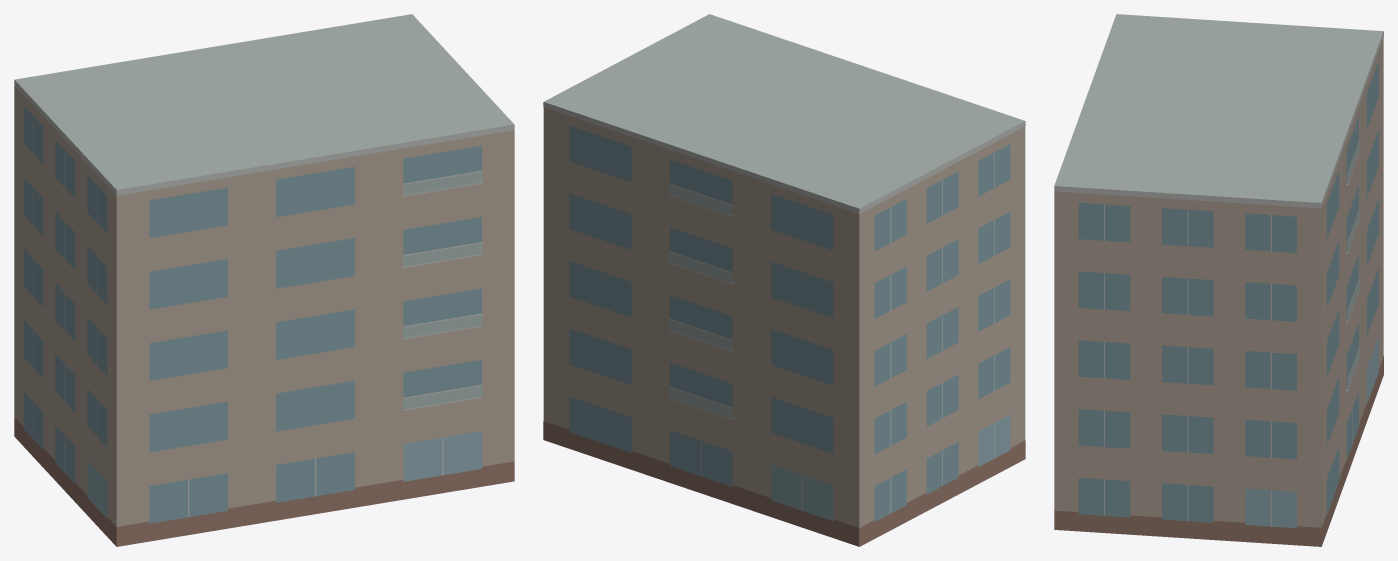
The model's file is survey-upis-32969734.glb.
3 renders of one model, left to right at view 1: azimuth 30°, elevation 25°; view 2: azimuth 150°, elevation 25°; view 3: azimuth 270°, elevation 25°, orthographic. The views are drawn at different scales.
Visible parts, largest first — view 1: survey-upis-32969734.tmp; view 2: survey-upis-32969734.tmp; view 3: survey-upis-32969734.tmp.
Part boxes in pixels (left/top/right/bottom): survey-upis-32969734.tmp: left=14, top=14, right=514, bottom=546; survey-upis-32969734.tmp: left=543, top=14, right=1025, bottom=546; survey-upis-32969734.tmp: left=1054, top=14, right=1383, bottom=546.
Bounding box in the file's own units: 17.99 × 15.25 × 13.26.
